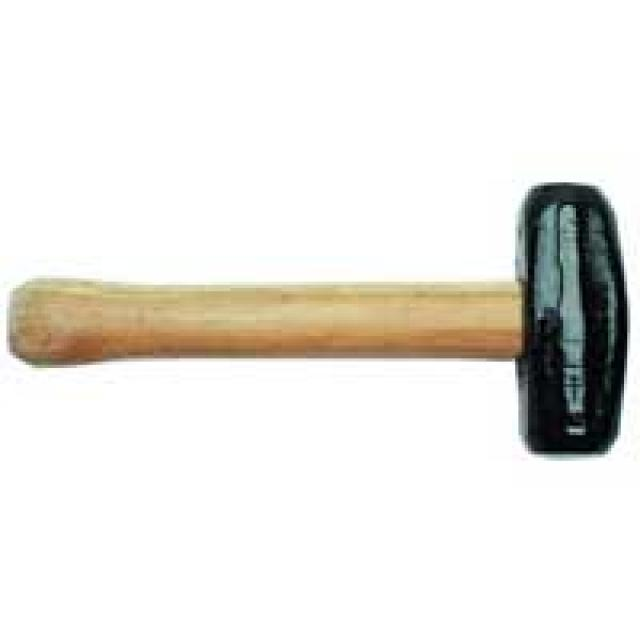hammer: (0, 185, 627, 458)
